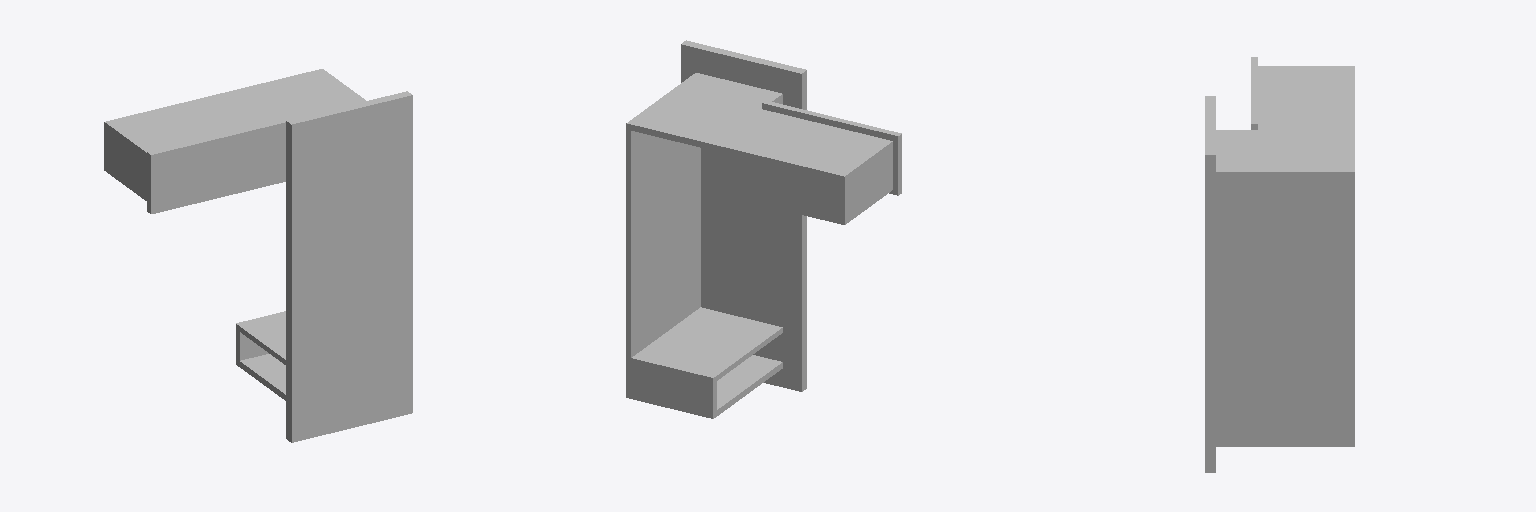
File: desk55.obj
3 views of the same model, side by side, from view 1: azimuth 30°, elevation 25°; view 2: azimuth 150°, elevation 25°; view 3: azimuth 270°, elevation 25° (orthographic).
Parts seen in each view (by area): view 1: Cube; view 2: Cube; view 3: Cube.
Part boxes in pixels (x1,y1,x2,y2): Cube: (104,69,412,442); Cube: (626,40,901,418); Cube: (1205,57,1354,472).
Bounding box in the file's own units: 3.94 × 5.01 × 2.14.